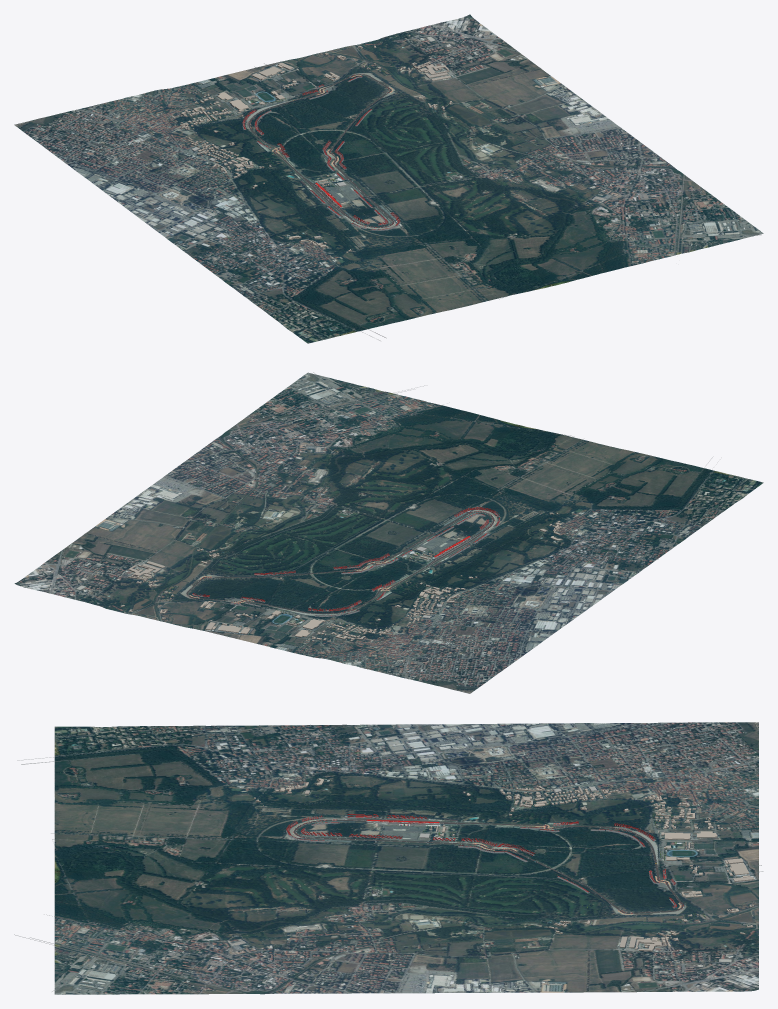
The model's file is monza.glb.
The picture shows the model from 3 angles, top to bottom: view 1: azimuth 30°, elevation 25°; view 2: azimuth 150°, elevation 25°; view 3: azimuth 270°, elevation 25°; orthographic projection. The views are drawn at different scales.
Visible parts, largest first — view 1: PCN_Monza_DTM_Terrain_RealScale, Monza_Current_OSM_PCN_DSM_Buildings, Monza_Current_OSM_Official_Map_Grandstands, FIA_Monza_Centreline_12m, Monza_OSM_Safety_Fences_And_Walls; view 2: PCN_Monza_DTM_Terrain_RealScale, Monza_Current_OSM_PCN_DSM_Buildings, Monza_Current_OSM_Official_Map_Grandstands, Monza_OSM_Safety_Fences_And_Walls, FIA_Monza_Centreline_12m; view 3: PCN_Monza_DTM_Terrain_RealScale, Monza_Current_OSM_PCN_DSM_Buildings, Monza_OSM_Safety_Fences_And_Walls, Monza_Current_OSM_Official_Map_Grandstands, FIA_Monza_Centreline_12m.
Part boxes in pixels (bbox=[...]): PCN_Monza_DTM_Terrain_RealScale: bbox=[14, 14, 763, 343]; Monza_Current_OSM_PCN_DSM_Buildings: bbox=[180, 45, 451, 252]; Monza_Current_OSM_Official_Map_Grandstands: bbox=[242, 76, 400, 230]; FIA_Monza_Centreline_12m: bbox=[248, 74, 393, 227]; Monza_OSM_Safety_Fences_And_Walls: bbox=[35, 38, 760, 340]; PCN_Monza_DTM_Terrain_RealScale: bbox=[14, 372, 763, 693]; Monza_Current_OSM_PCN_DSM_Buildings: bbox=[120, 512, 562, 641]; Monza_Current_OSM_Official_Map_Grandstands: bbox=[192, 507, 500, 616]; Monza_OSM_Safety_Fences_And_Walls: bbox=[87, 372, 749, 678]; FIA_Monza_Centreline_12m: bbox=[186, 511, 494, 614]; PCN_Monza_DTM_Terrain_RealScale: bbox=[54, 722, 758, 994]; Monza_Current_OSM_PCN_DSM_Buildings: bbox=[254, 778, 755, 951]; Monza_OSM_Safety_Fences_And_Walls: bbox=[14, 724, 763, 994]; Monza_Current_OSM_Official_Map_Grandstands: bbox=[286, 813, 676, 908]; FIA_Monza_Centreline_12m: bbox=[293, 819, 683, 913].
Bounding box in the file's own units: 3548 × 47 × 4196.
Materials: 23 (1 with a texture image).
